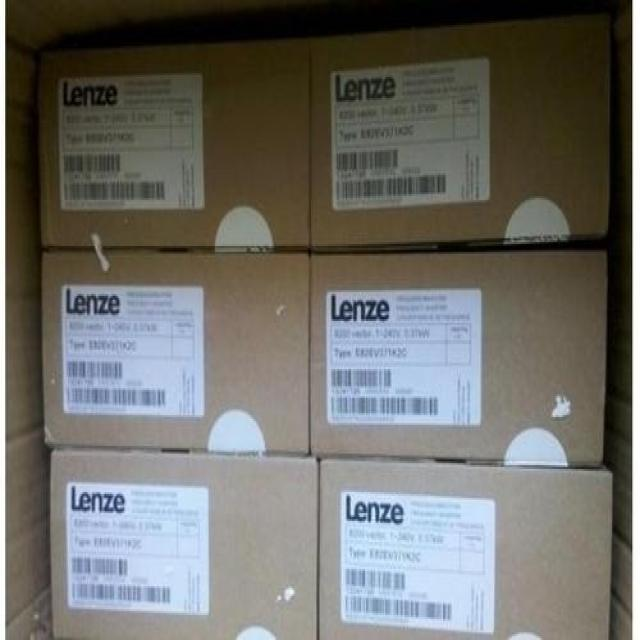box: (306, 20, 611, 248), (310, 254, 608, 468), (39, 41, 311, 249), (42, 253, 309, 457), (320, 459, 611, 638), (51, 454, 319, 638), (4, 175, 45, 442), (5, 423, 53, 630), (4, 588, 53, 638)
